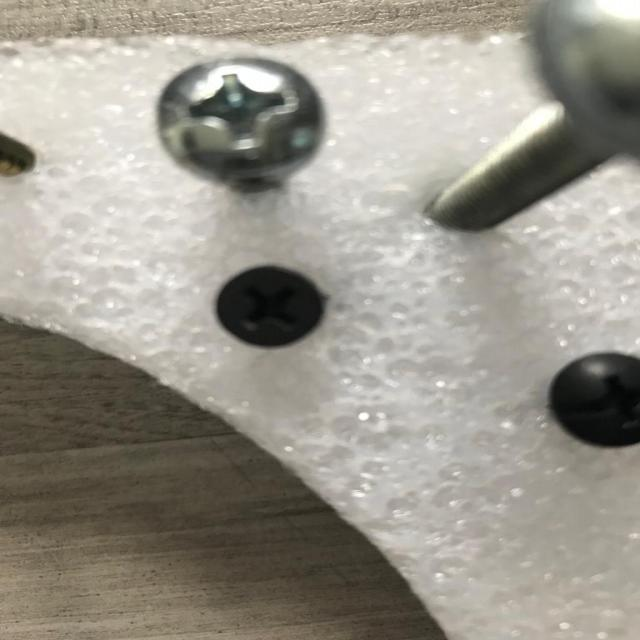PhillipsScrewHead: (157, 57, 321, 178), (216, 266, 323, 346), (551, 351, 640, 446)
